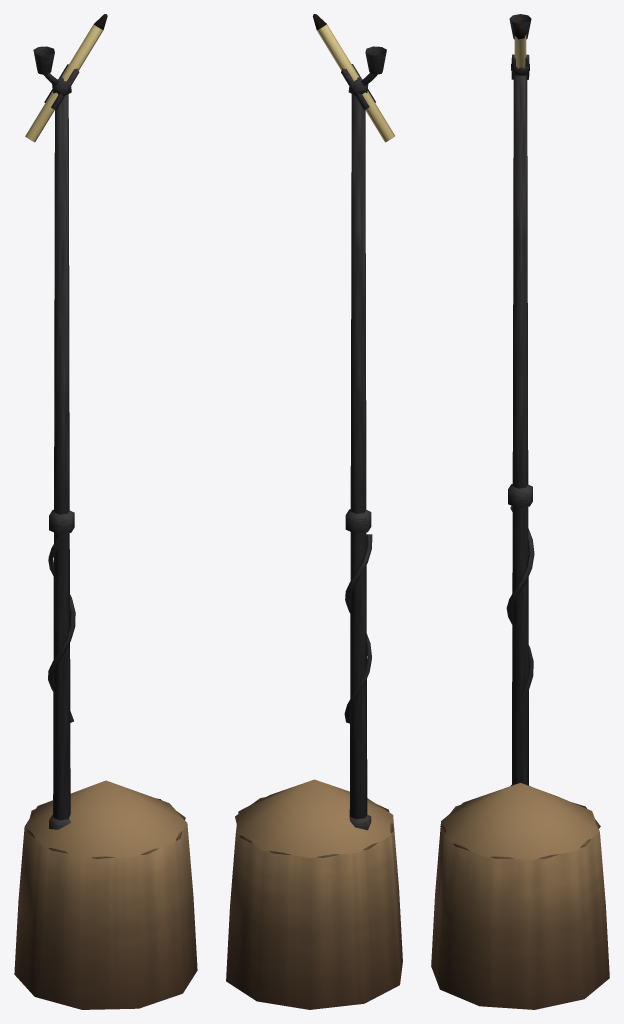
The model's file is rushlight.glb.
The picture shows the model from 3 angles, left to right: view 1: azimuth 30°, elevation 25°; view 2: azimuth 150°, elevation 25°; view 3: azimuth 270°, elevation 25°; orthographic projection.
Parts seen in each view (by area): view 1: rushlight; view 2: rushlight; view 3: rushlight.
Part boxes in pixels (x1,y1,x2,y2): rushlight: [14, 14, 197, 1009]; rushlight: [226, 14, 402, 1009]; rushlight: [431, 14, 609, 1009].
Size of the model in its own units: 0.1794 by 1.04 by 0.1778.
Materials: 1 (1 with a texture image).
